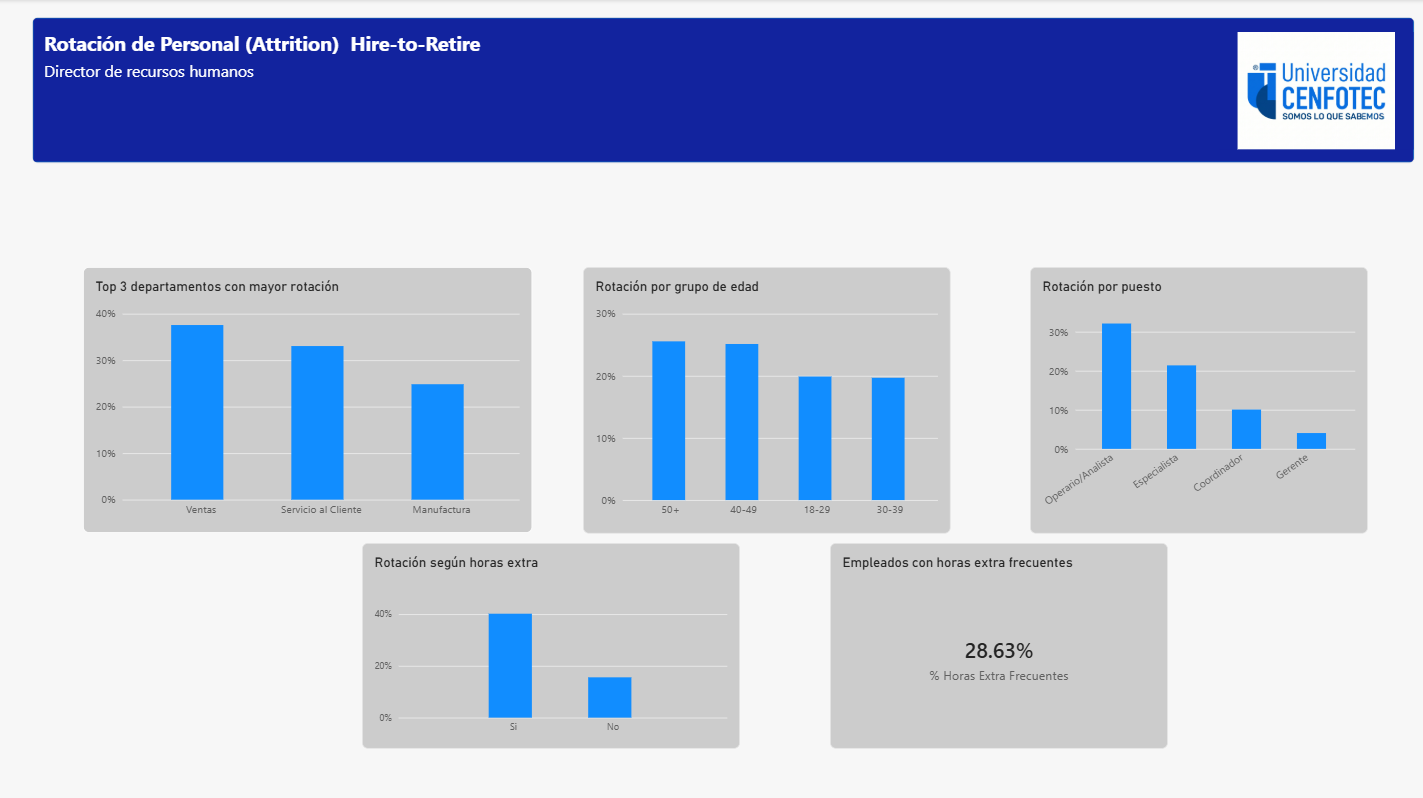

Layout of this report page (visuals, bound fields, positions):
{"tool":"powerbi","page":{"name":"Análisis detallado","canvas":[1920,1080],"ordinal":1},"visuals":[{"type":"columnChart","title":"Top 3 departamentos con mayor rotación","fields":{"Category":["Departamentos.nombre_departamento"],"Y":["Departamentos.Tasa Rotacion"]},"box":[113.8,360.4,605,358.3],"z":0},{"type":"clusteredColumnChart","title":"Rotación por grupo de edad","fields":{"Category":["Empleados.Grupo Edad"],"Y":["Departamentos.Tasa de rotación"]},"box":[787.8,360.4,494.6,358.9],"z":1},{"type":"clusteredColumnChart","title":"Rotación por puesto","fields":{"Category":["Empleados.puesto"],"Y":["Departamentos.Tasa de rotación"]},"box":[1390.4,360.4,455.2,358.9],"z":2},{"type":"clusteredColumnChart","title":"Rotación según horas extra","fields":{"Category":["Empleados.horas_extra_frecuentes"],"Y":["Departamentos.Tasa de rotación"]},"box":[490.2,732.4,509.2,277.2],"z":3},{"type":"card","title":"Empleados con horas extra frecuentes","fields":{"Values":["Empleados.% Horas Extra Frecuentes"]},"box":[1120.5,732.4,455.2,277.2],"z":4},{"type":"shape","box":[45.2,24.8,1861.7,196.7],"z":5},{"type":"image","box":[1644.3,43.8,261.7,158.3],"z":6},{"type":"textbox","box":[61.3,40.9,634.7,81.7],"z":7},{"type":"textbox","box":[61.3,81.7,417.3,51.1],"z":8}]}

Visuals, with their boxes in screenshot pixels (x1, y1, x2, y2), scaled from the page's 1920x1080 canvas onto the 1423x798 screenshot:
"Top 3 departamentos con mayor rotación" columnChart: (84,266,533,531)
"Rotación por grupo de edad" clusteredColumnChart: (584,266,950,531)
"Rotación por puesto" clusteredColumnChart: (1030,266,1368,531)
"Rotación según horas extra" clusteredColumnChart: (363,541,741,746)
"Empleados con horas extra frecuentes" card: (830,541,1168,746)
shape: (33,18,1413,164)
image: (1219,32,1413,149)
textbox: (45,30,516,91)
textbox: (45,60,355,98)
